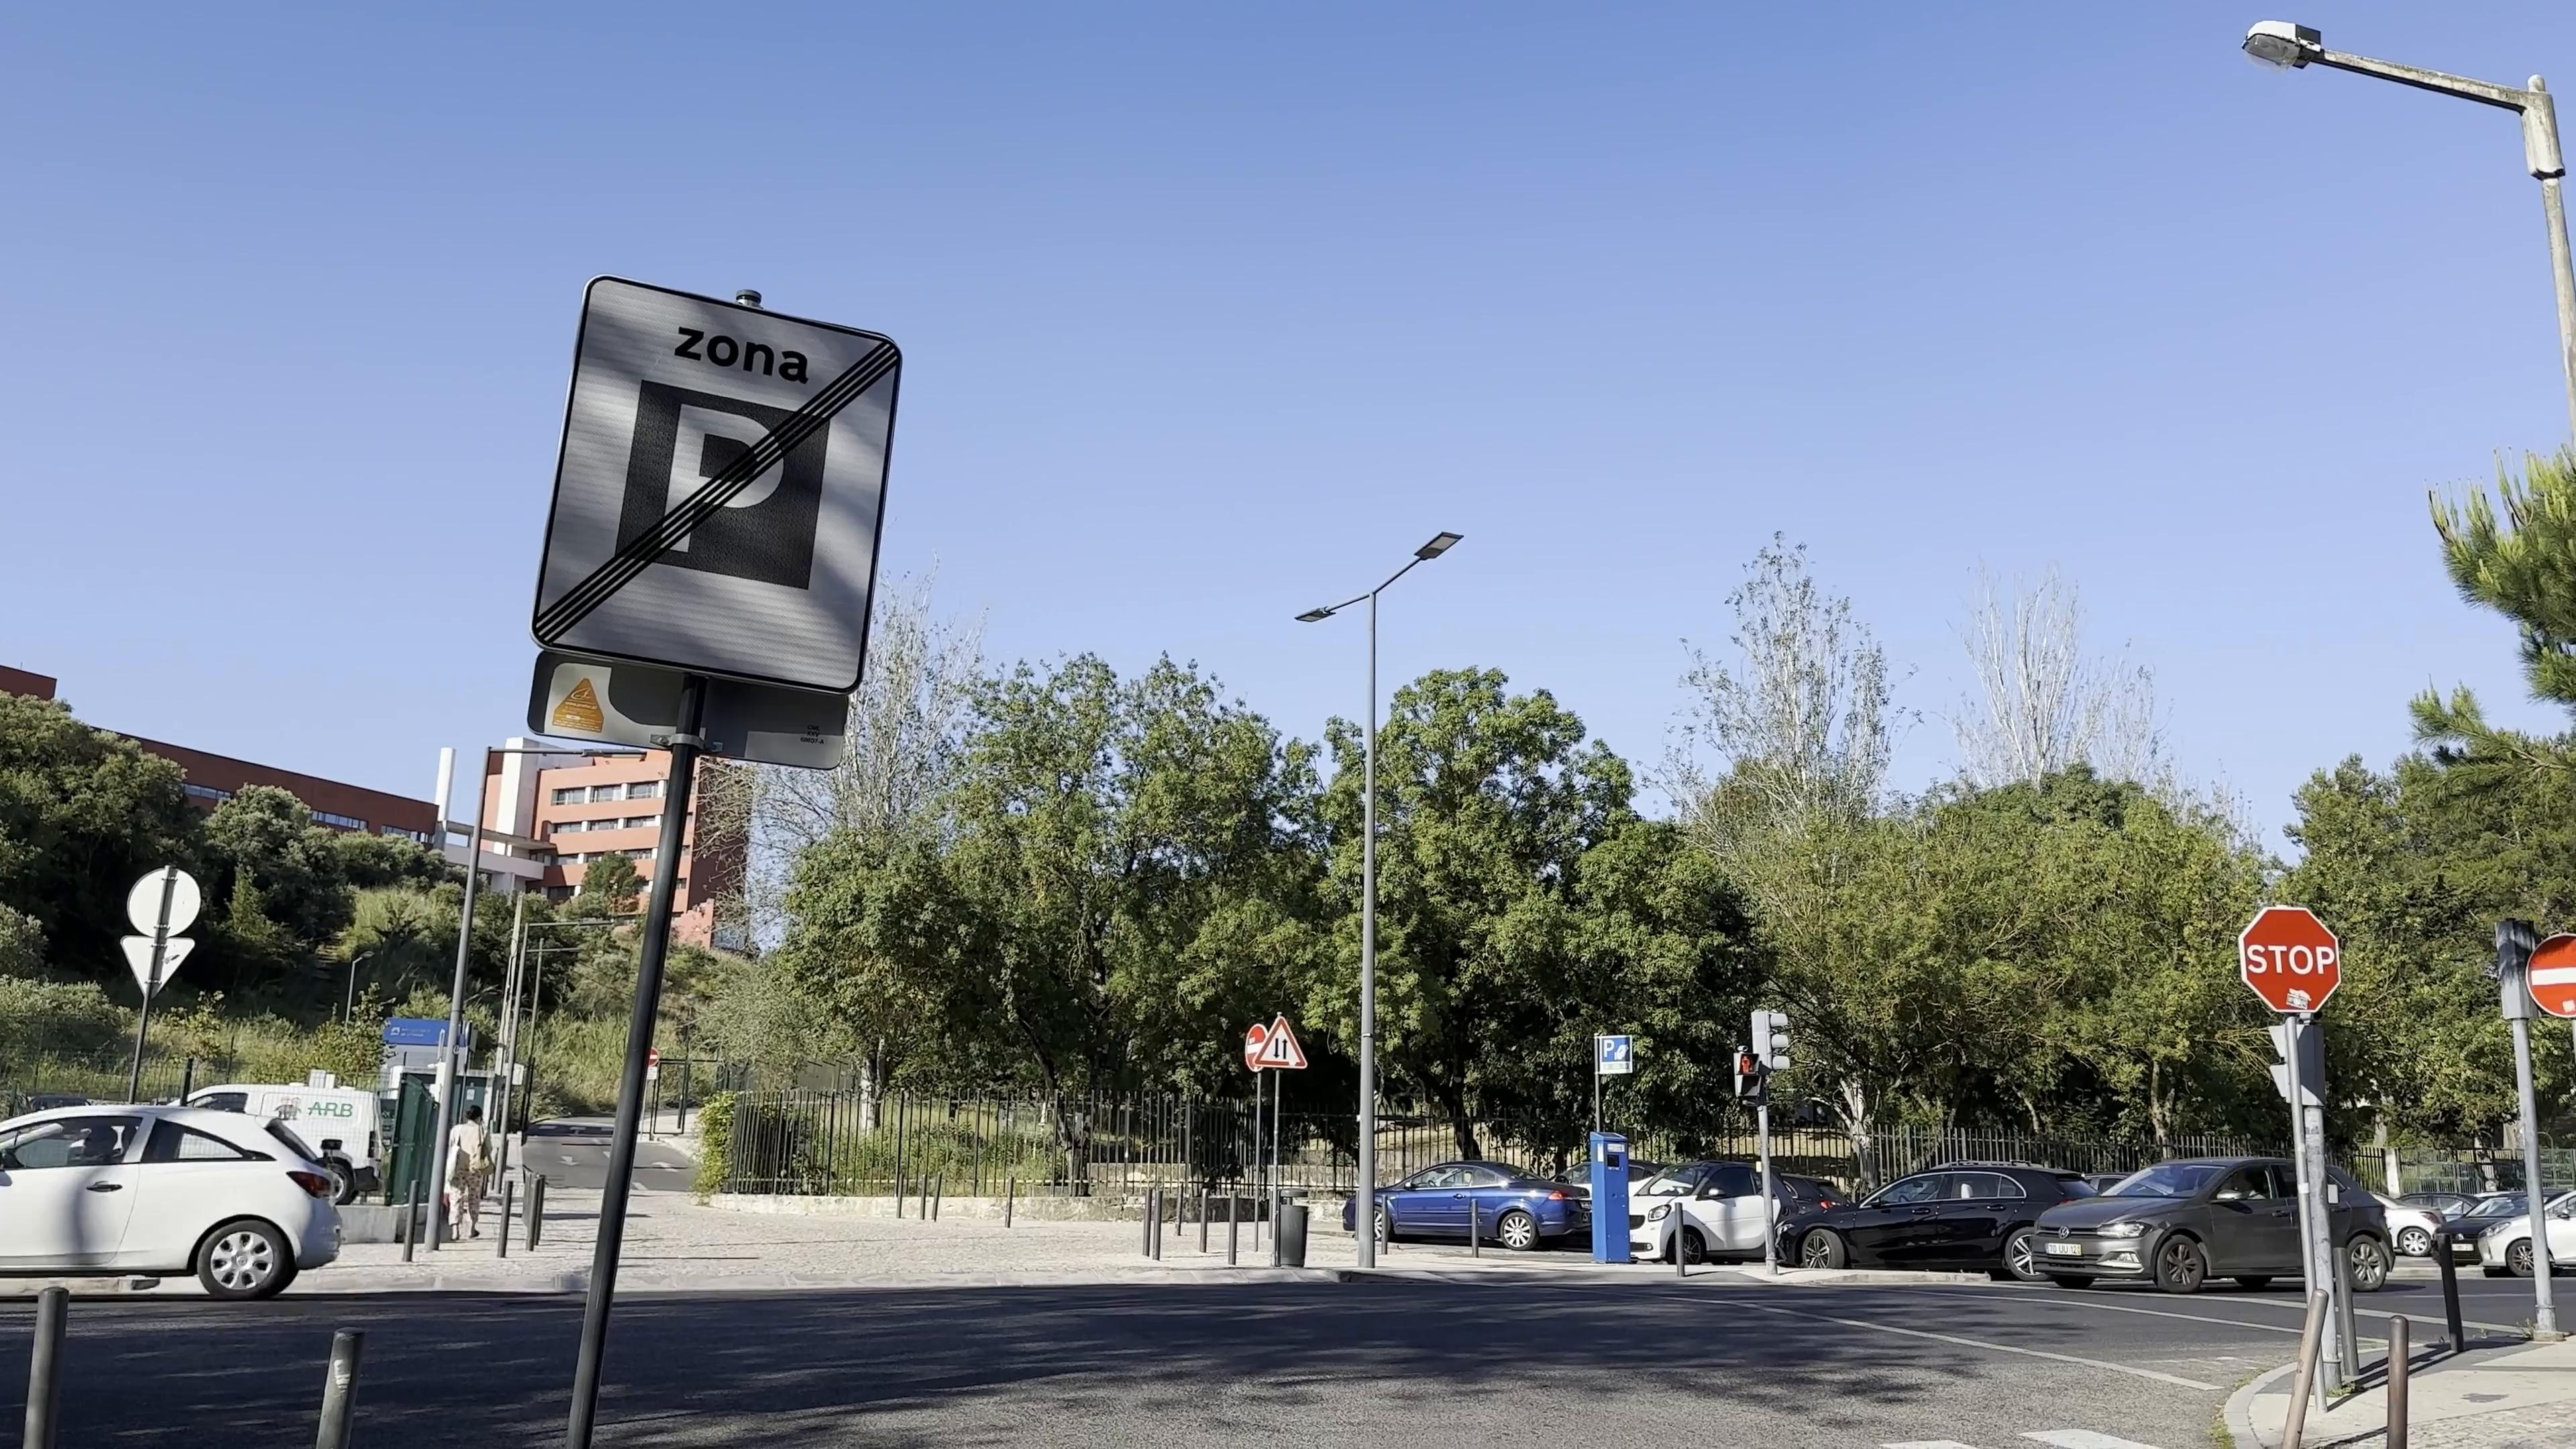fim de zona de estacionamento autorizado: (524, 271, 909, 709)
